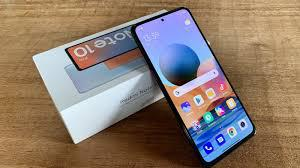Smartphone: (130, 14, 264, 164)
